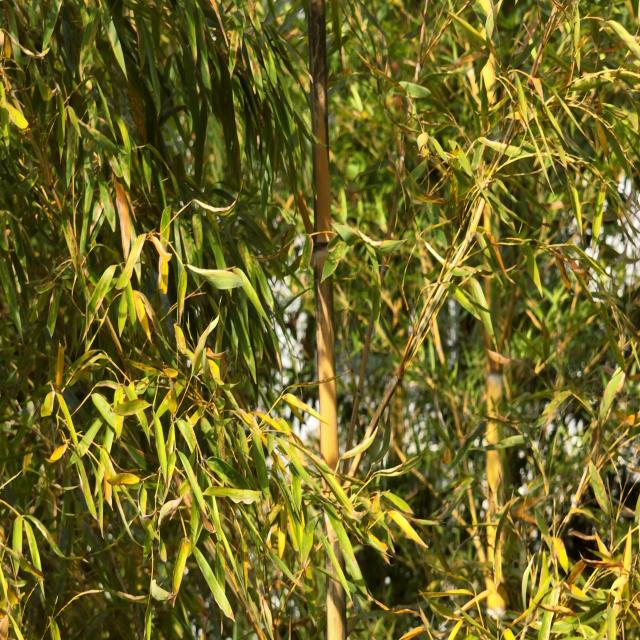Bamboo-shoots: (307, 0, 346, 640)
